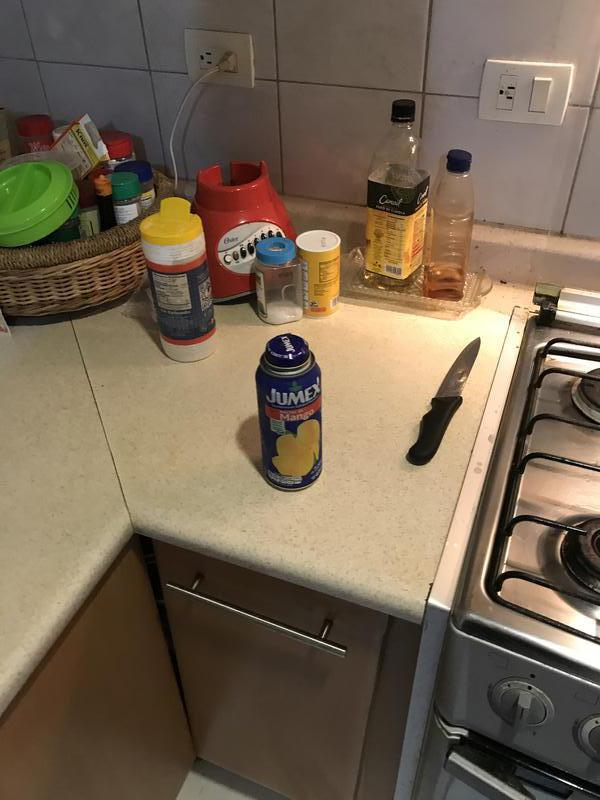jugo_jumex: (256, 334, 327, 493)
